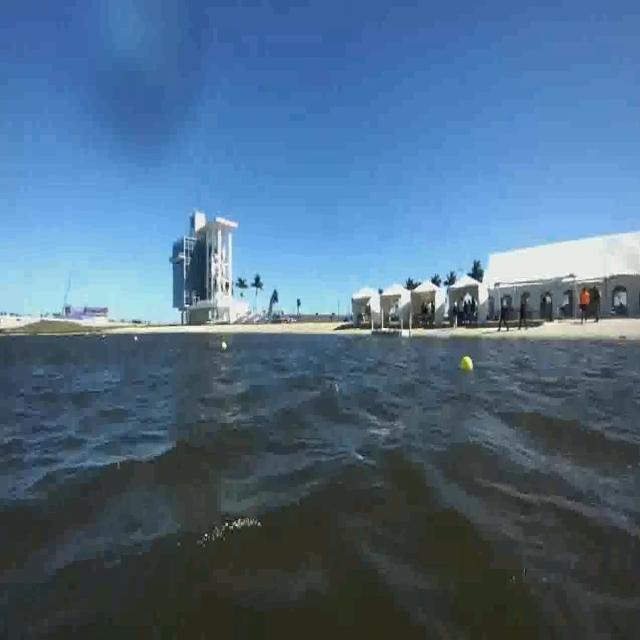yellow-buoy: (460, 353, 473, 374)
